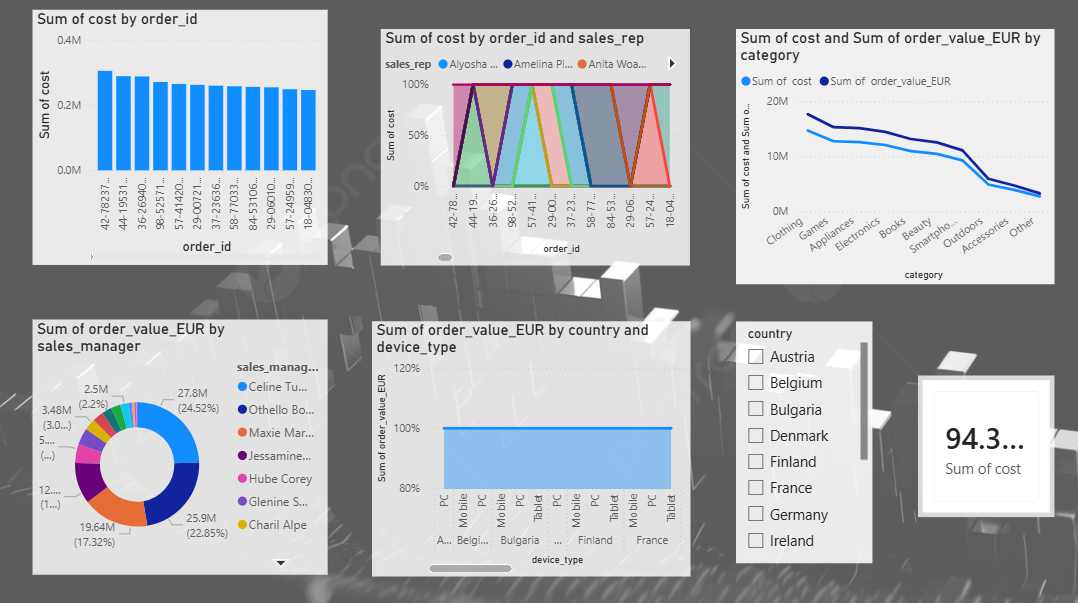

The dashboard page shown, as its layout file describes it:
{"tool":"powerbi","page":{"name":"Page 1","canvas":[1280,720],"ordinal":0},"visuals":[{"type":"clusteredColumnChart","fields":{"Category":["Sales-Export_2019-2020.order_id"],"Y":["Sum(Sales-Export_2019-2020. cost )"]},"box":[80,33.5,325.2,281.3],"z":0},{"type":"donutChart","fields":{"Y":["Sum(Sales-Export_2019-2020. order_value_EUR )"],"Category":["Sales-Export_2019-2020.sales_manager"]},"box":[80,374.2,325.2,281.3],"z":1000},{"type":"hundredPercentStackedAreaChart","fields":{"Category":["Sales-Export_2019-2020.order_id"],"Series":["Sales-Export_2019-2020.sales_rep"],"Y":["Sum(Sales-Export_2019-2020. cost )"]},"box":[464.5,54.2,340.6,260.6],"z":2000},{"type":"hundredPercentStackedAreaChart","fields":{"Category":["Sales-Export_2019-2020.country","Sales-Export_2019-2020.device_type"],"Y":["Sum(Sales-Export_2019-2020. order_value_EUR )"]},"box":[454.2,376.8,351,281.3],"z":3000},{"type":"lineChart","fields":{"Y":["Sum(Sales-Export_2019-2020. cost )","Sum(Sales-Export_2019-2020. order_value_EUR )"],"Category":["Sales-Export_2019-2020.category"]},"box":[856.8,54.2,351,281.3],"z":5000},{"type":"slicer","fields":{"Values":["Sales-Export_2019-2020.country"]},"box":[855.9,375.9,150.4,266],"z":5001},{"type":"cardVisual","fields":{"Data":["Sum(Sales-Export_2019-2020. cost )"]},"box":[1056.4,435.7,150.4,156.1],"z":5002}]}

Visuals, with their boxes in screenshot pixels (x1, y1, x2, y2), scaled from the page's 1280x720 canvas onto the 1078x603 screenshot:
clusteredColumnChart - Sales-Export_2019-2020.order_id x Sum(Sales-Export_2019-2020. cost ): select_region(67, 28, 341, 264)
donutChart - Sum(Sales-Export_2019-2020. order_value_EUR ) x Sales-Export_2019-2020.sales_manager: select_region(67, 313, 341, 549)
hundredPercentStackedAreaChart - Sales-Export_2019-2020.order_id x Sales-Export_2019-2020.sales_rep: select_region(391, 45, 678, 264)
hundredPercentStackedAreaChart - Sales-Export_2019-2020.country x Sales-Export_2019-2020.device_type: select_region(383, 316, 678, 551)
lineChart - Sum(Sales-Export_2019-2020. cost ) x Sum(Sales-Export_2019-2020. order_value_EUR ): select_region(722, 45, 1017, 281)
slicer - Sales-Export_2019-2020.country: select_region(721, 315, 847, 538)
cardVisual - Sum(Sales-Export_2019-2020. cost ): select_region(890, 365, 1016, 496)
